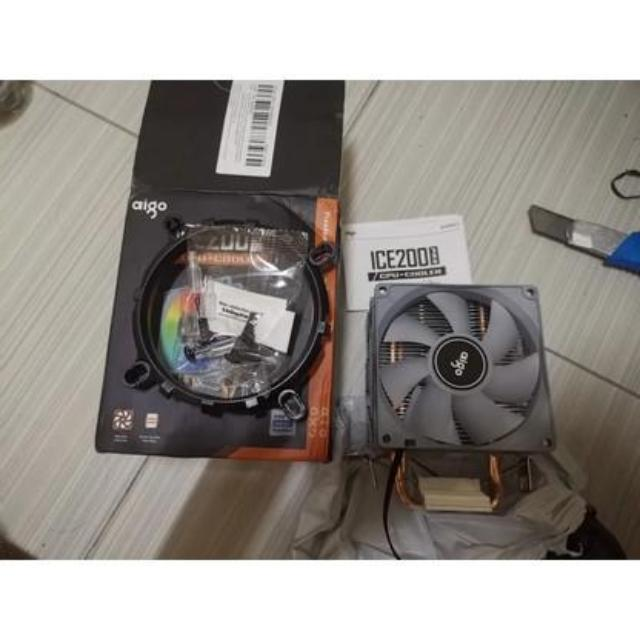CPU_Fan: (370, 282, 555, 518)
